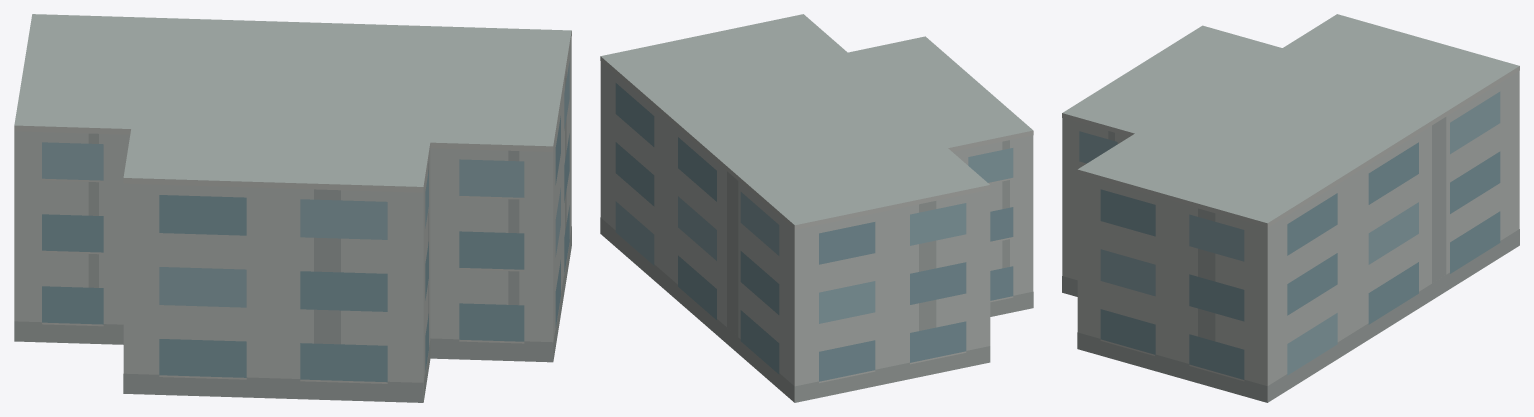
The model's file is survey-upis-32821686.glb.
The picture shows the model from 3 angles, left to right: view 1: azimuth 30°, elevation 25°; view 2: azimuth 150°, elevation 25°; view 3: azimuth 270°, elevation 25°; orthographic projection. The views are drawn at different scales.
Parts seen in each view (by area): view 1: survey-upis-32821686.tmp; view 2: survey-upis-32821686.tmp; view 3: survey-upis-32821686.tmp.
Part boxes in pixels (x1=…): survey-upis-32821686.tmp: x1=14, y1=14, x2=571, y2=402; survey-upis-32821686.tmp: x1=600, y1=14, x2=1033, y2=402; survey-upis-32821686.tmp: x1=1062, y1=14, x2=1519, y2=402.
Size of the model in its own units: 22.87 by 9.15 by 21.14.
